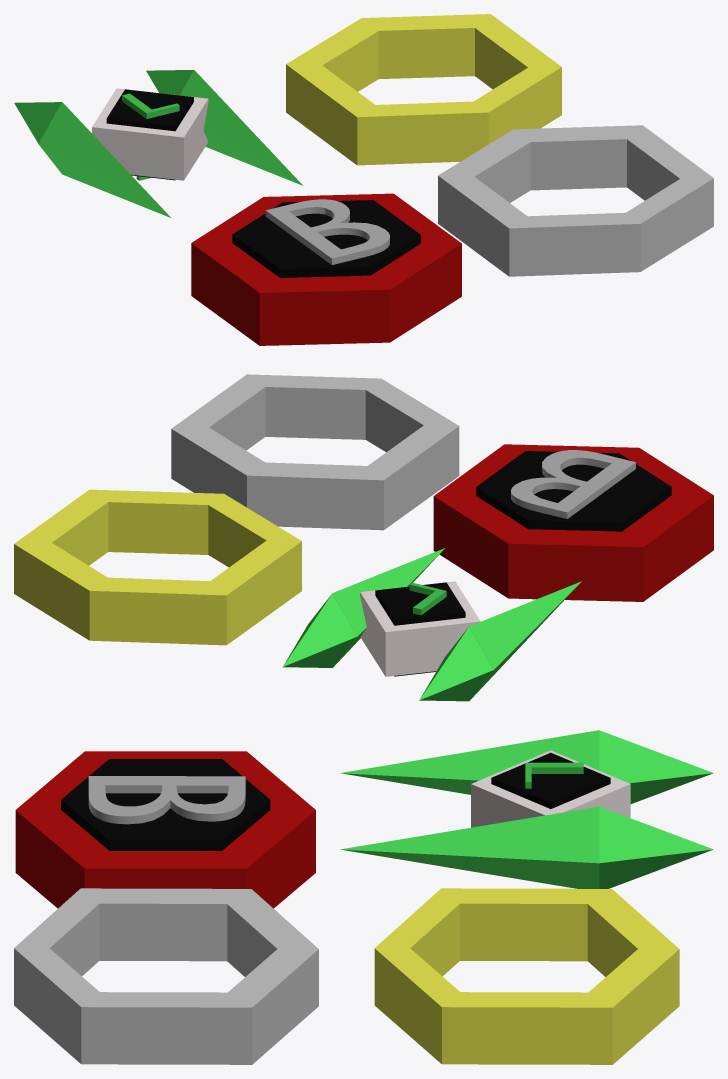
File: PowerupModels.fbx
The picture shows the model from 3 angles, top to bottom: view 1: azimuth 30°, elevation 25°; view 2: azimuth 150°, elevation 25°; view 3: azimuth 270°, elevation 25°; orthographic projection. The views are drawn at different scales.
Parts seen in each view (by area): view 1: SilverRingPowerup, GoldRingPowerup, polySurface10, LaserPowerup, polySurface9, polySurface8; view 2: GoldRingPowerup, SilverRingPowerup, polySurface10, LaserPowerup, polySurface9, polySurface8; view 3: GoldRingPowerup, SilverRingPowerup, LaserPowerup, polySurface10, polySurface9, polySurface8.
Boxes of the visible parts, <box> form: SilverRingPowerup: <box>438,125,713,276</box>; GoldRingPowerup: <box>286,14,561,165</box>; polySurface10: <box>191,193,461,345</box>; LaserPowerup: <box>14,70,302,217</box>; polySurface9: <box>232,200,420,277</box>; polySurface8: <box>265,199,389,264</box>; GoldRingPowerup: <box>14,489,301,645</box>; SilverRingPowerup: <box>171,374,459,530</box>; polySurface10: <box>433,444,713,601</box>; LaserPowerup: <box>283,548,581,701</box>; polySurface9: <box>476,451,671,531</box>; polySurface8: <box>511,450,635,518</box>; GoldRingPowerup: <box>374,888,679,1064</box>; SilverRingPowerup: <box>14,888,318,1064</box>; LaserPowerup: <box>340,730,713,888</box>; polySurface10: <box>15,751,315,908</box>; polySurface9: <box>61,759,270,850</box>; polySurface8: <box>88,776,245,824</box>.
Size of the model in its own units: 9.87 by 1.9 by 11.02.
